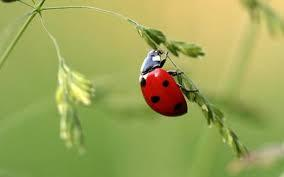insect: (137, 46, 202, 121)
